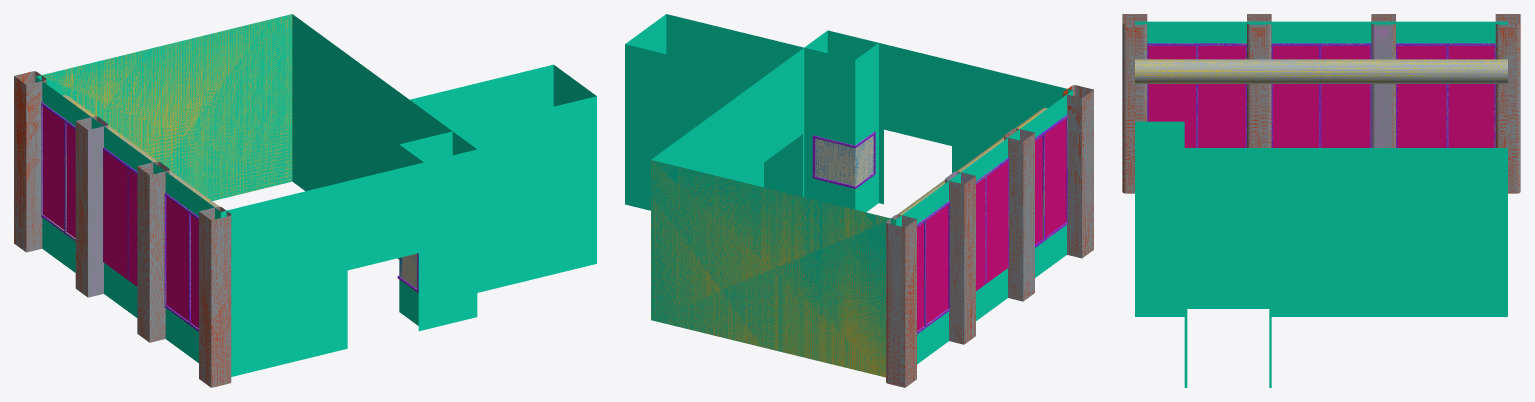
File: Walls.fbx
3 renders of one model, left to right at view 1: azimuth 30°, elevation 25°; view 2: azimuth 150°, elevation 25°; view 3: azimuth 270°, elevation 25°, orthographic. The views are drawn at different scales.
Parts seen in each view (by area): view 1: Group1; view 2: Group1; view 3: Group1.
Boxes of the visible parts, <box> form: Group1: <box>14,14,596,387</box>; Group1: <box>625,14,1093,387</box>; Group1: <box>1122,14,1520,387</box>.
Bounding box in the file's own units: 468 × 180 × 384.
